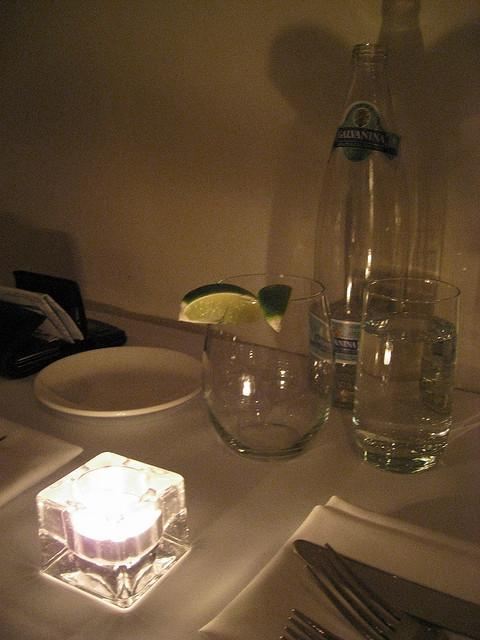lime: (177, 283, 264, 325), (258, 284, 293, 333)
